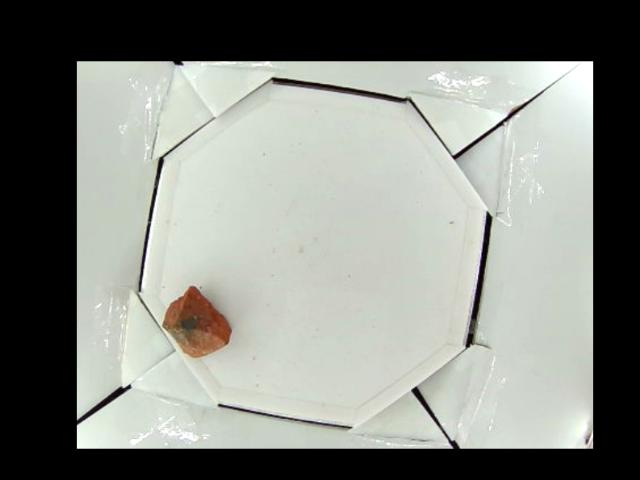Brisk: (163, 286, 232, 355)
